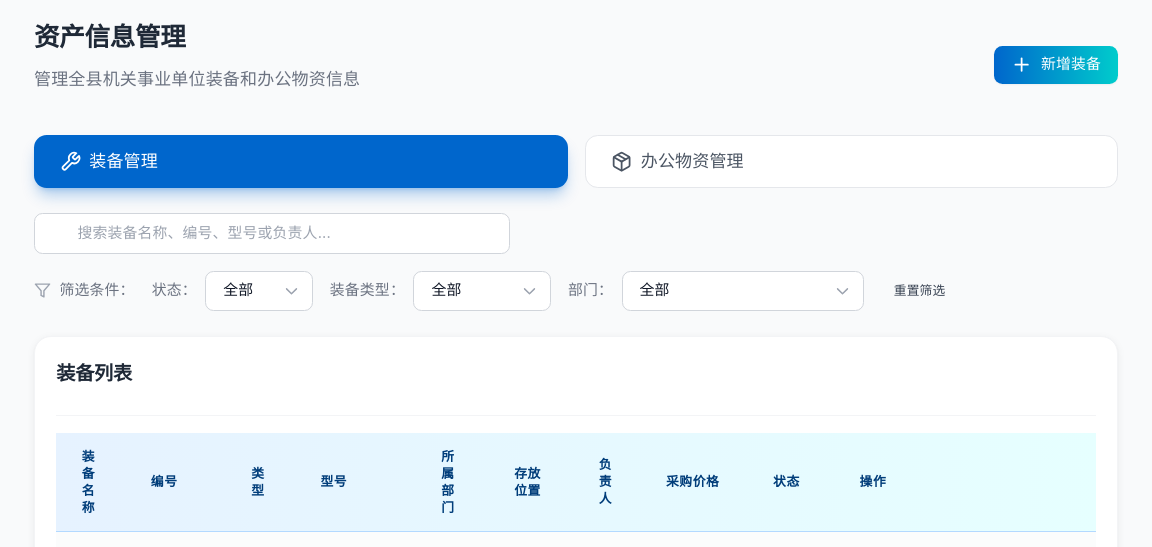
Test: AssetManagement Page › searches equipment by name
Type "台式电脑" into the field with placeholder "搜索装备名称、编号、型号或负责人..." at (272, 233), box 34,213 -> 510,254
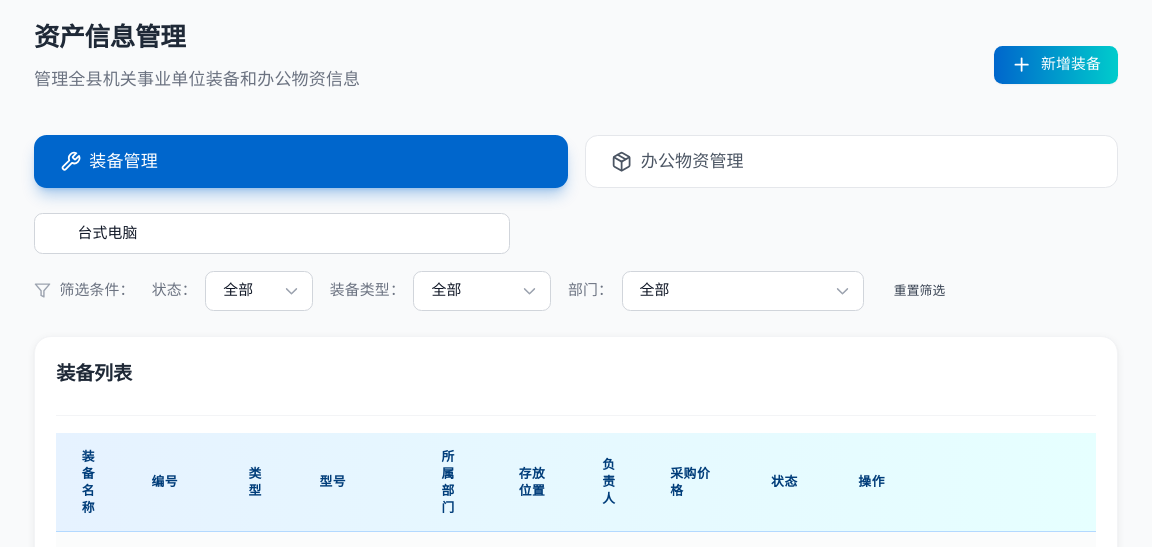
Clear the field with placeholder "搜索装备名称、编号、型号或负责人..." at (272, 233), box 34,213 -> 510,254
(page scrolled)
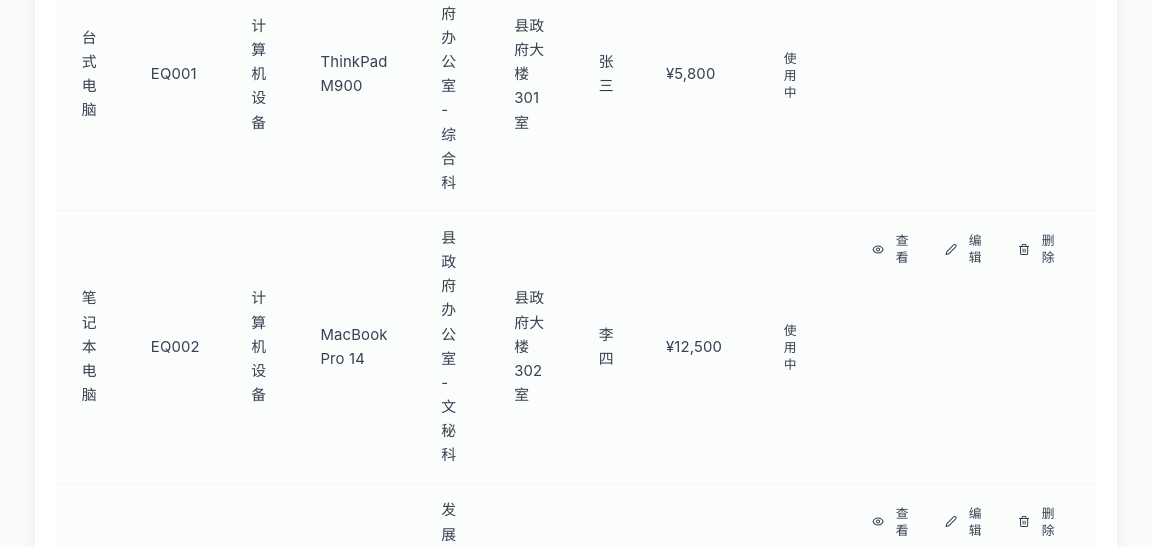
Expected: the text "笔记本电脑" is shown, 56,210 -> 125,483
